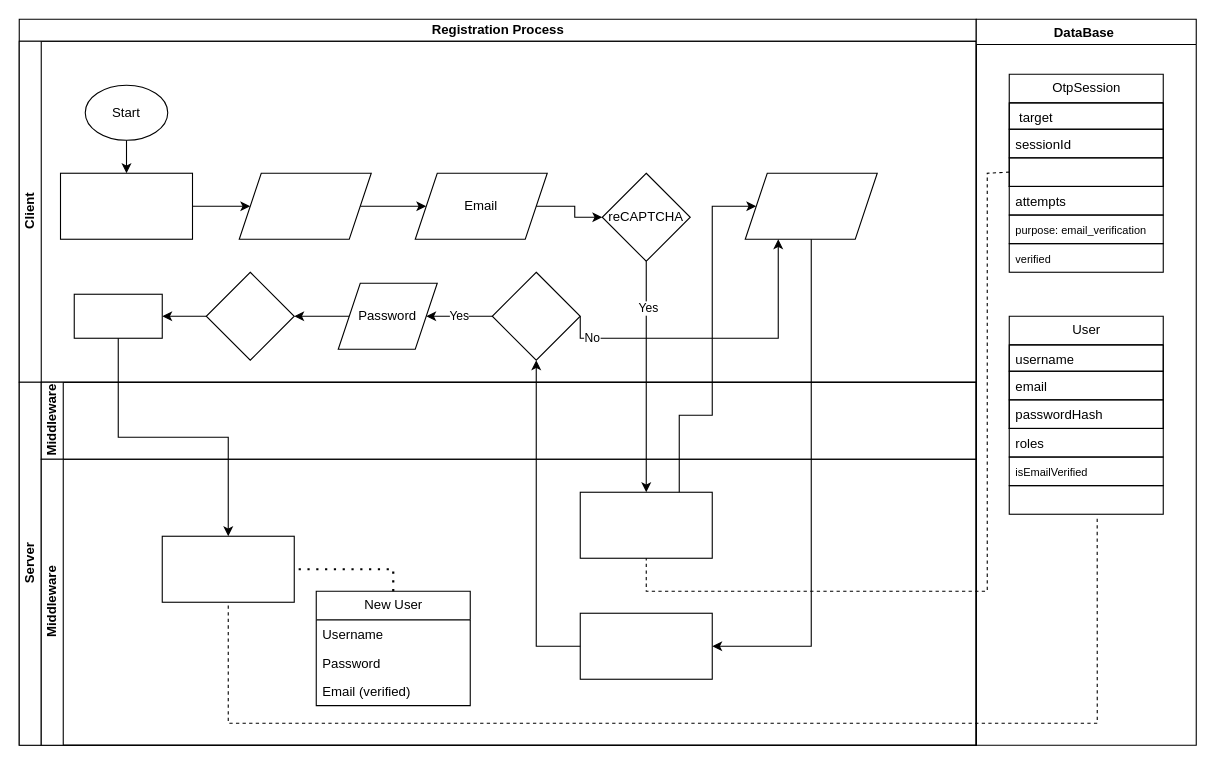
Image size: 1216x765. Some labels were removed from this diagram. The centre of each missing label's shape, as x and y in pixels:
Clicks "Sign Up": (x=126, y=205)
Generate OTP & Send email: (x=645, y=524)
mfaEnabled: (x=1085, y=499)
OTP: (x=810, y=205)
otpHash: (x=1085, y=171)
Register New User: (x=227, y=568)
Submit: (x=117, y=315)
success: (x=535, y=315)
User name: (x=304, y=205)
Valid Password: (x=249, y=315)
verified OTP: (x=645, y=645)
